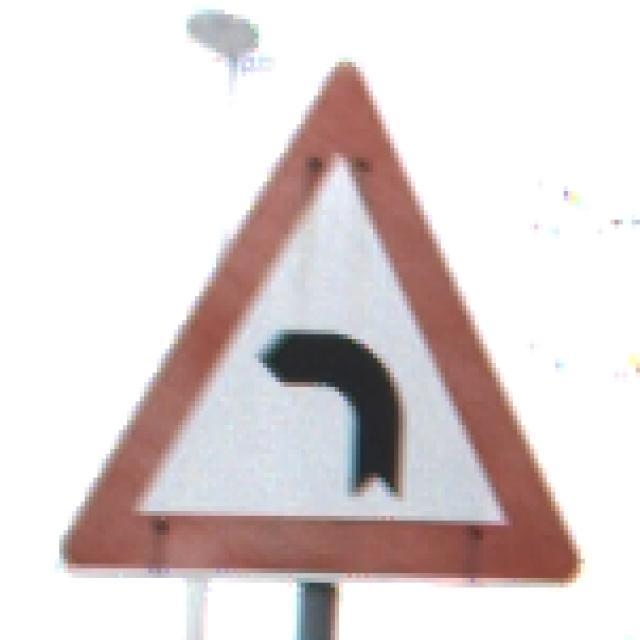left hand curve: (48, 51, 588, 595)
